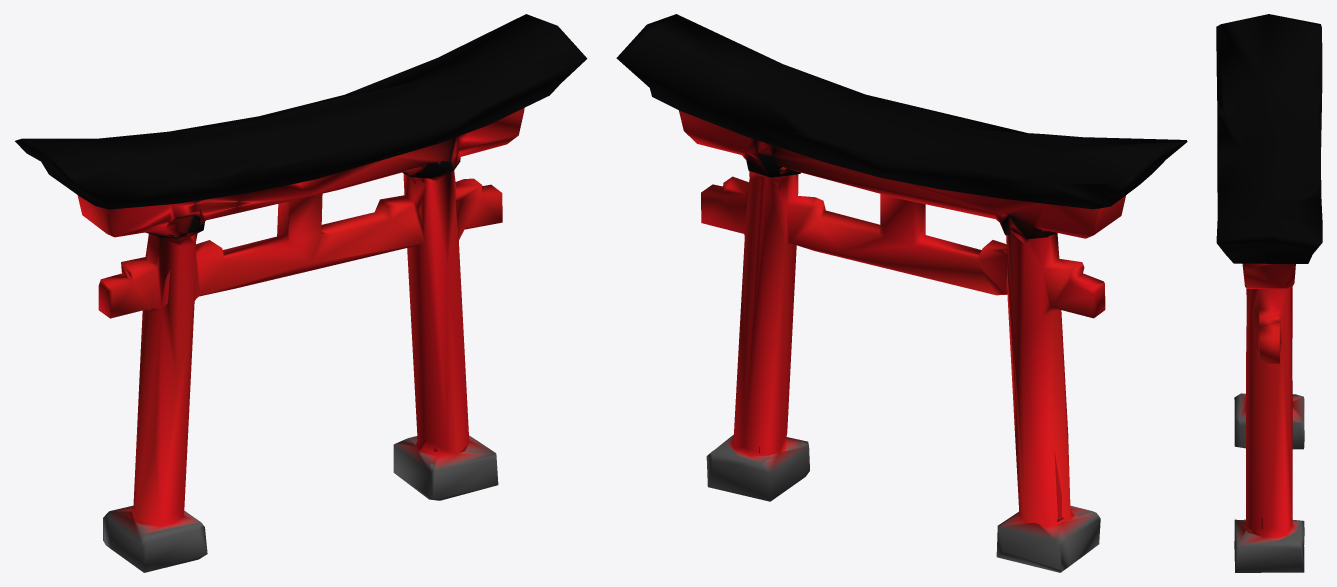
The model's file is gen3d-torii-gate-lod1.glb.
3 renders of one model, left to right at view 1: azimuth 30°, elevation 25°; view 2: azimuth 150°, elevation 25°; view 3: azimuth 270°, elevation 25°, orthographic. The views are drawn at different scales.
Visible parts, largest first — view 1: part_0; view 2: part_0; view 3: part_0.
Part boxes in pixels (x1,y1,x2,y2): part_0: [15, 14, 587, 572]; part_0: [616, 14, 1187, 572]; part_0: [1216, 14, 1322, 572].
Bounding box in the file's own units: 1.25 × 0.9993 × 0.2575.
